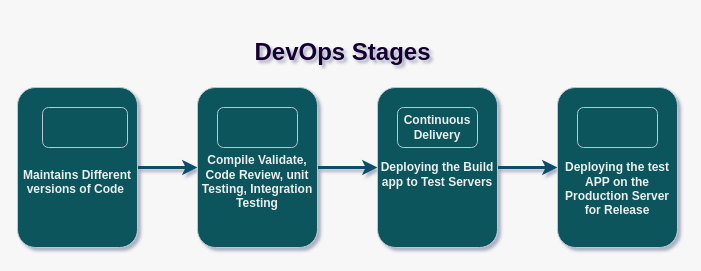
This 701x271 diagram has some shape labels left out. Here are the shapes that lost their labels. From the top down, the centre of each, then its label:
At [85,127]: "Version Control".
At [257,127]: "Continuous Integration".
At [617,127]: "Continuous Deployment".
